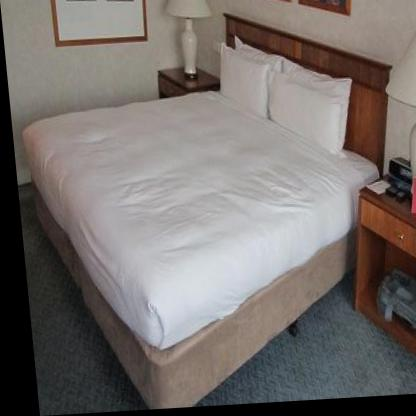Bed: (22, 25, 383, 411)
